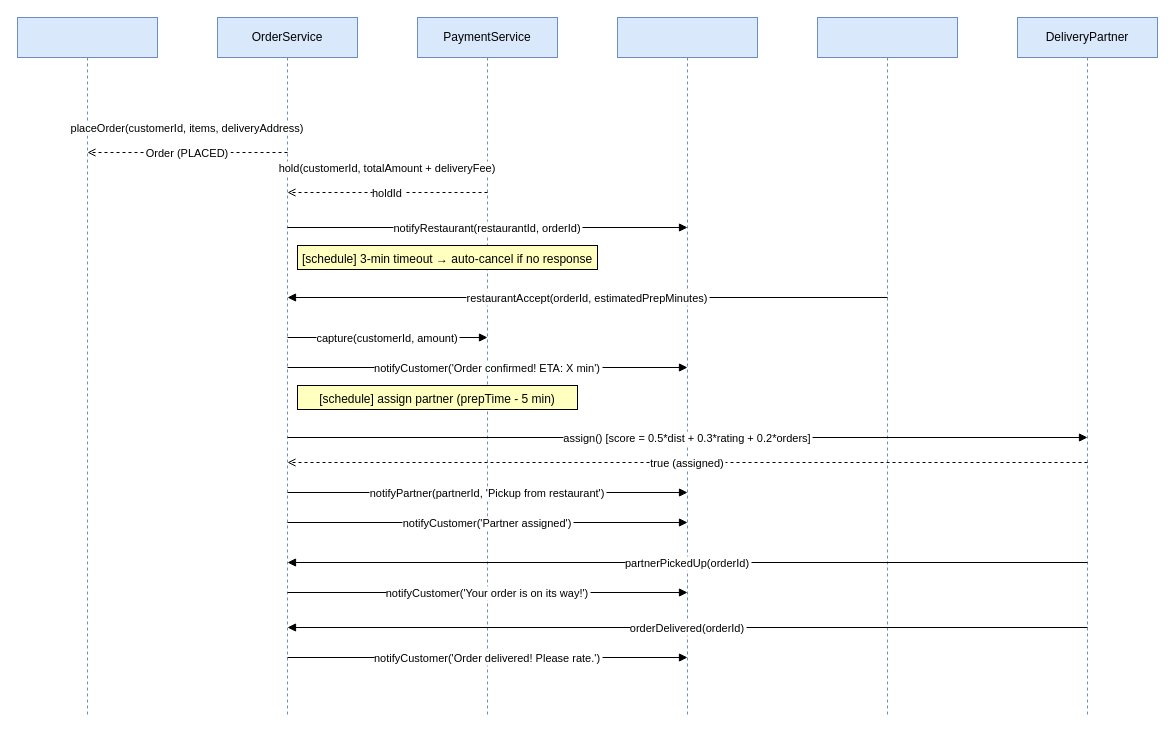
Image size: 1175x735. Some labels were removed from this diagram. Here are the shapes that lost their labels. From the top down, the box of each, then its label:
(16, 16, 158, 718): Customer
(616, 16, 758, 718): NotificationService
(816, 16, 958, 718): Restaurant
